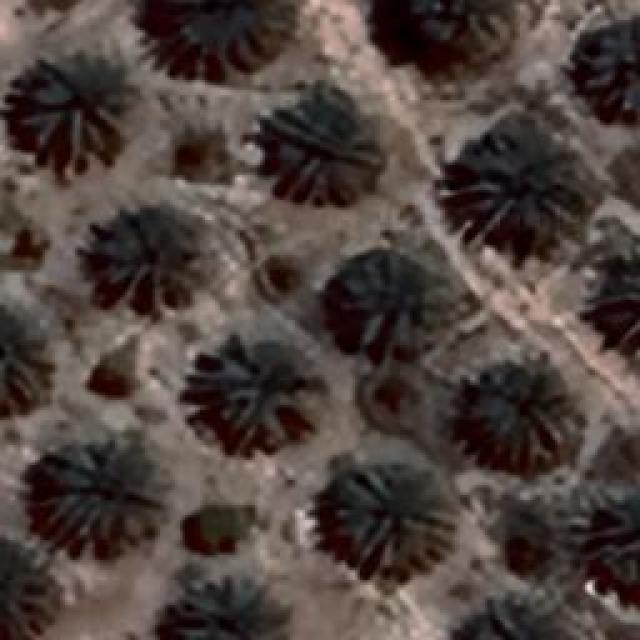PalmTree: (35, 430, 170, 552), (85, 198, 210, 312), (12, 52, 130, 170), (450, 130, 580, 235), (267, 90, 385, 205), (370, 2, 538, 82), (200, 338, 318, 451), (332, 468, 458, 570), (462, 357, 576, 465), (135, 0, 292, 72), (337, 255, 445, 350), (482, 479, 578, 579), (567, 470, 640, 592), (165, 570, 298, 635), (447, 586, 585, 639), (0, 534, 65, 638), (574, 19, 638, 112), (0, 300, 52, 410), (593, 255, 640, 350)
